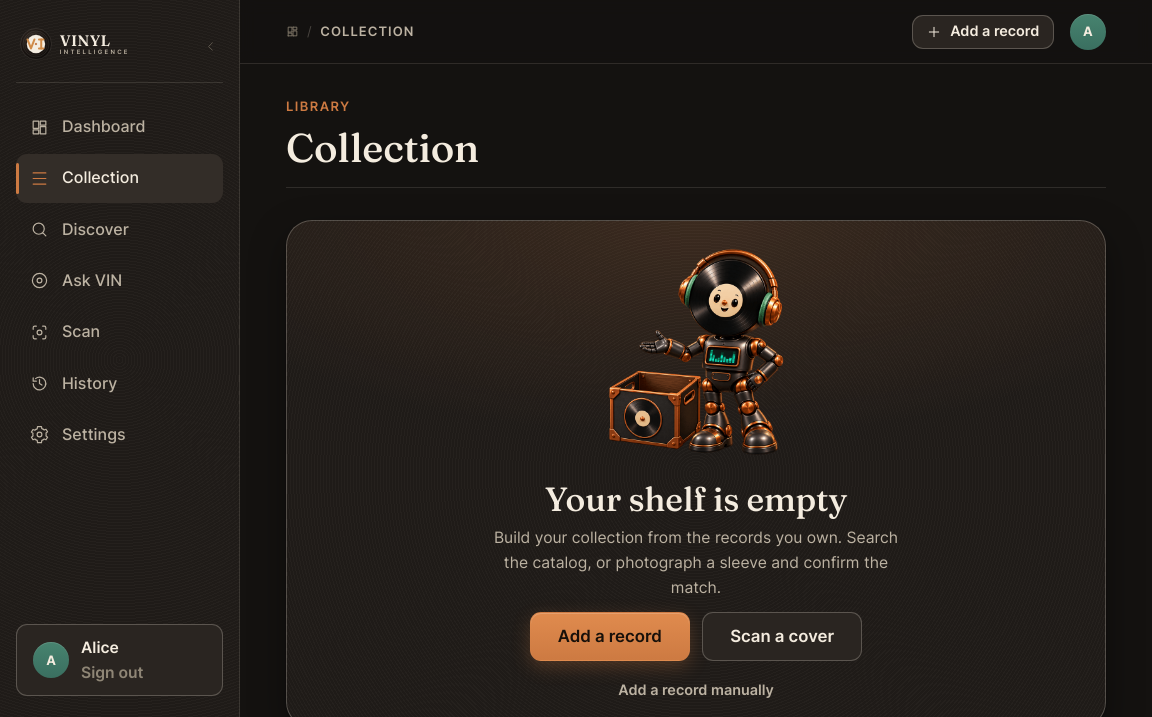
auth and profile workflow (routed) › shows a collection-first empty state at /collection (not the CRUD form)
Expected: the heading "Your shelf is empty" is shown, [545,480,847,518]
Expected: the field labelled "Artist" is not shown
// manual CRUD is still available, behind a disclosure
What coordinates should you click on to do the following:
click the button "Add a record manually"
I would click on:
 (696, 690)
Its box is [604,670,788,711].
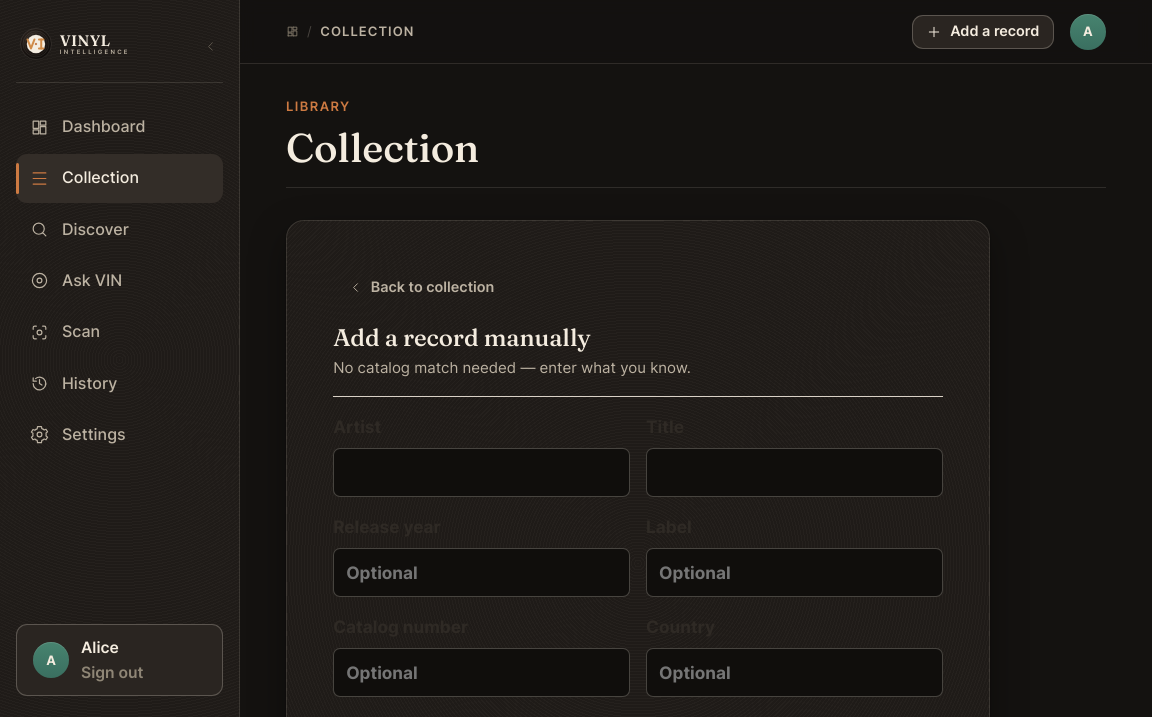
Now the field labelled "Artist" is shown, box [333,448,630,497]
